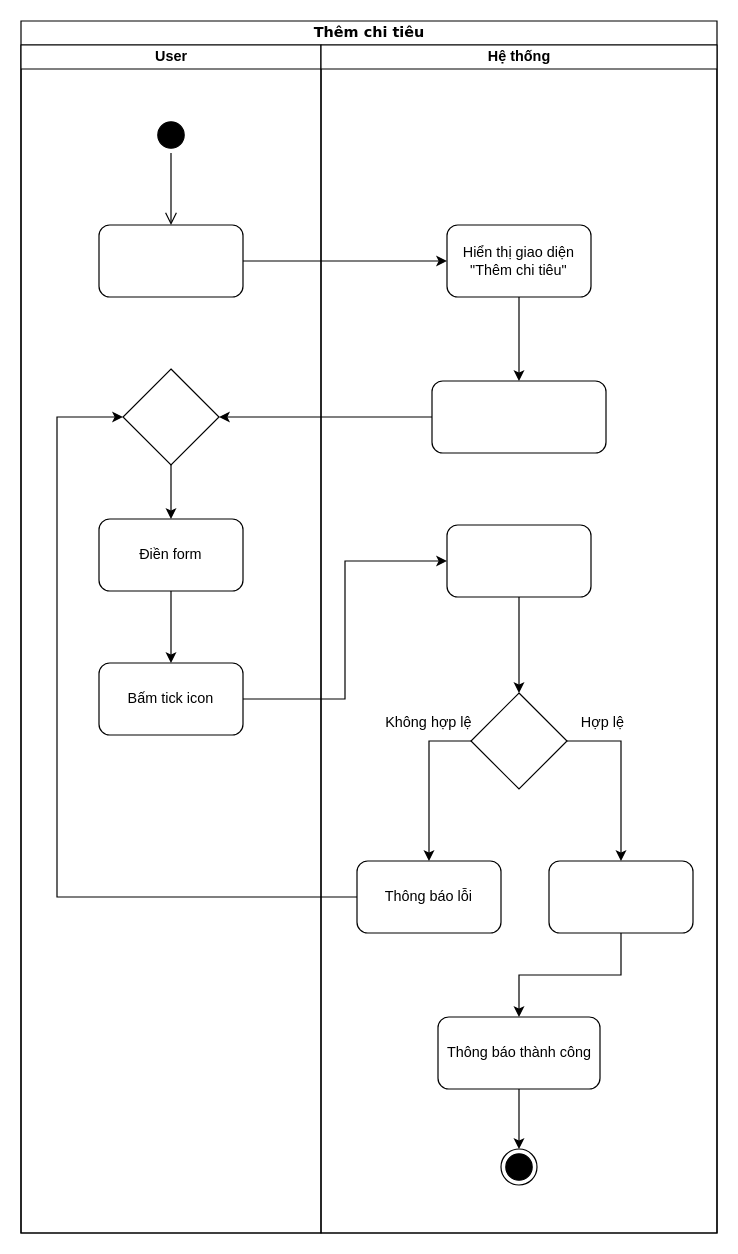
Some shapes in this 738 by 1254 pixel diagram are drawn without their labels. The centre of each missing label's shape, as x and y in pixels:
Chọn "Thêm chi tiêu": the point at 170,260
Hiển thị form thêm chi tiêu: the point at 518,416
Kiểm tra thông tin: the point at 518,560
Lưu thông tin: the point at 620,896
